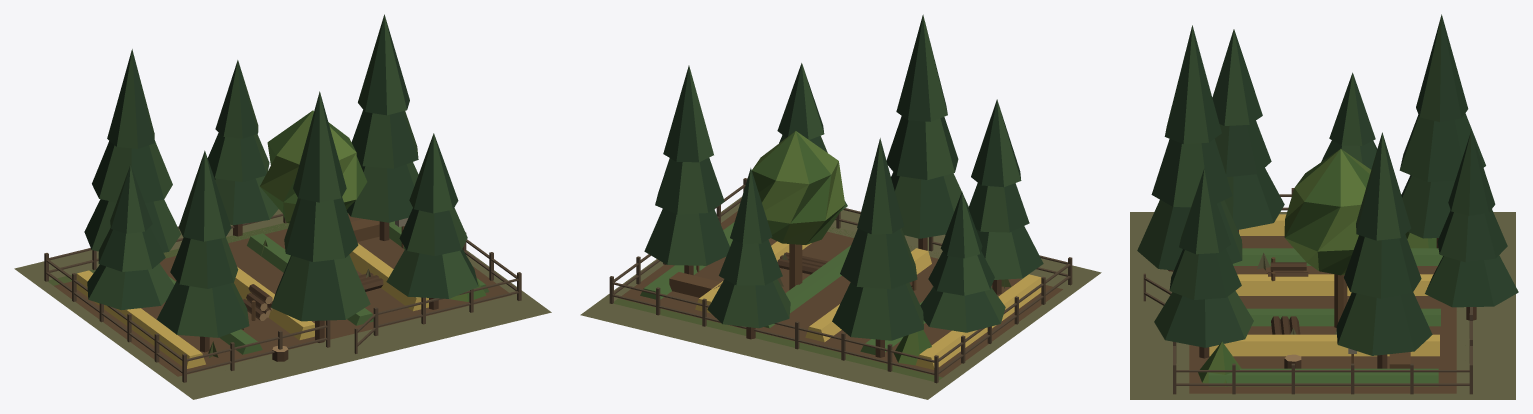
Rendered from umland_stellen.glb.
3 views of the same model, side by side, from view 1: azimuth 30°, elevation 25°; view 2: azimuth 150°, elevation 25°; view 3: azimuth 270°, elevation 25° (orthographic). The views are drawn at different scales.
Visible parts, largest first — view 1: Wald, Feld, Weide; view 2: Wald, Feld, Weide; view 3: Wald, Feld, Weide.
Boxes of the visible parts, left/top/right/bottom form: Wald: left=14, top=14, right=551, bottom=399; Feld: left=54, top=214, right=511, bottom=376; Weide: left=44, top=213, right=521, bottom=382; Wald: left=580, top=14, right=1101, bottom=399; Feld: left=619, top=211, right=1062, bottom=377; Weide: left=609, top=178, right=1072, bottom=383; Wald: left=1130, top=14, right=1518, bottom=399; Feld: left=1189, top=214, right=1456, bottom=393; Weide: left=1143, top=188, right=1472, bottom=394.
Bounding box in the file's own units: 15.02 × 10.05 × 13.1.
